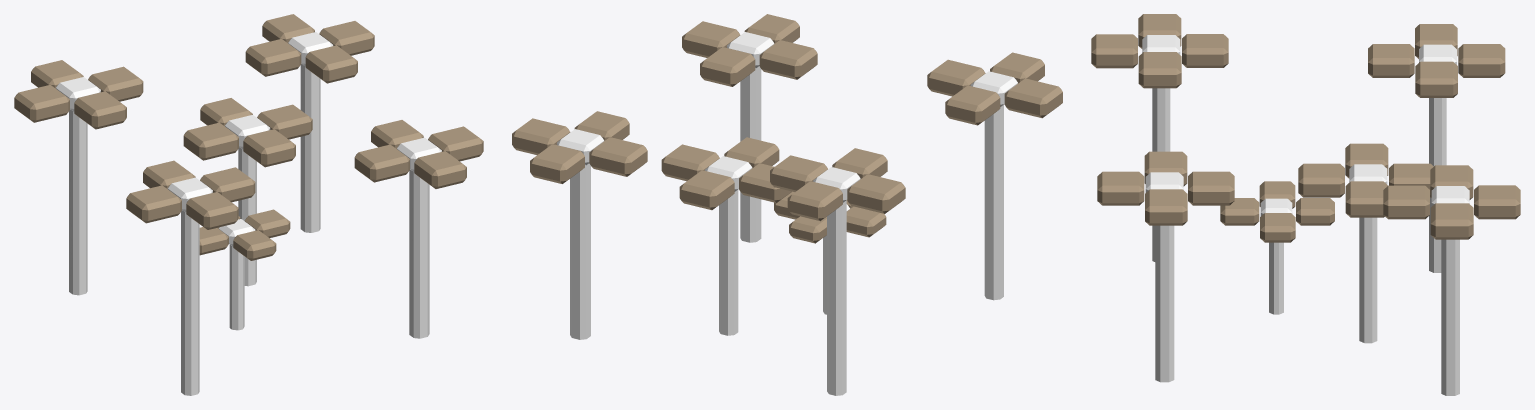
The model's file is Flowers_1.glb.
3 views of the same model, side by side, from view 1: azimuth 30°, elevation 25°; view 2: azimuth 150°, elevation 25°; view 3: azimuth 270°, elevation 25° (orthographic). The views are drawn at different scales.
Visible parts, largest first — view 1: Flowers_1; view 2: Flowers_1; view 3: Flowers_1.
Boxes of the visible parts, box(x1,y1,x2,y2) form: Flowers_1: box(14, 14, 483, 395); Flowers_1: box(512, 14, 1062, 395); Flowers_1: box(1091, 14, 1520, 395).
Bounding box in the file's own units: 1.93 × 1.03 × 1.83.
Materials: 2 (1 with a texture image).
